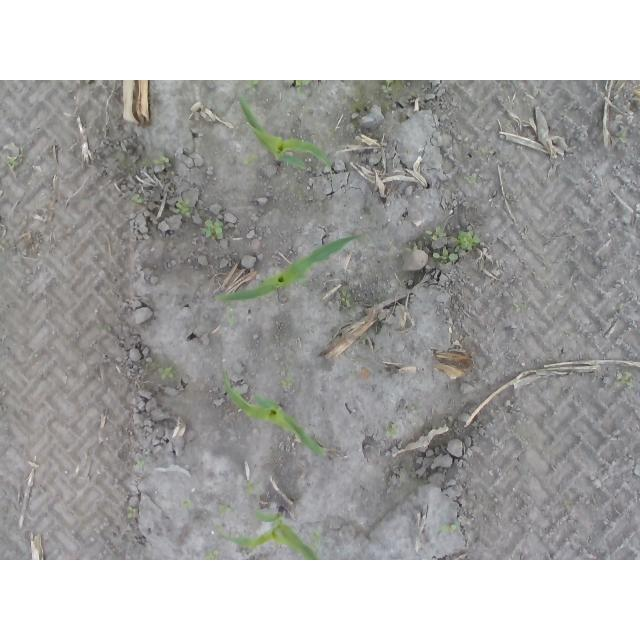Maize: (216, 235, 369, 302), (223, 368, 329, 457), (239, 91, 334, 181), (212, 509, 329, 559)
Weeds: (427, 227, 481, 261), (312, 532, 328, 561), (175, 198, 194, 221), (4, 147, 25, 167), (616, 371, 636, 391), (205, 219, 224, 238), (242, 480, 262, 493), (242, 154, 258, 169), (159, 367, 174, 381), (153, 157, 171, 168), (513, 299, 527, 313), (387, 425, 400, 440), (227, 306, 236, 327), (281, 375, 294, 389), (295, 80, 310, 92), (441, 525, 457, 536), (382, 80, 394, 94), (245, 81, 259, 93), (219, 505, 234, 515), (132, 194, 143, 207), (342, 293, 350, 308), (466, 177, 478, 187), (405, 246, 419, 253), (208, 552, 219, 560), (127, 505, 133, 519), (182, 498, 191, 507)
